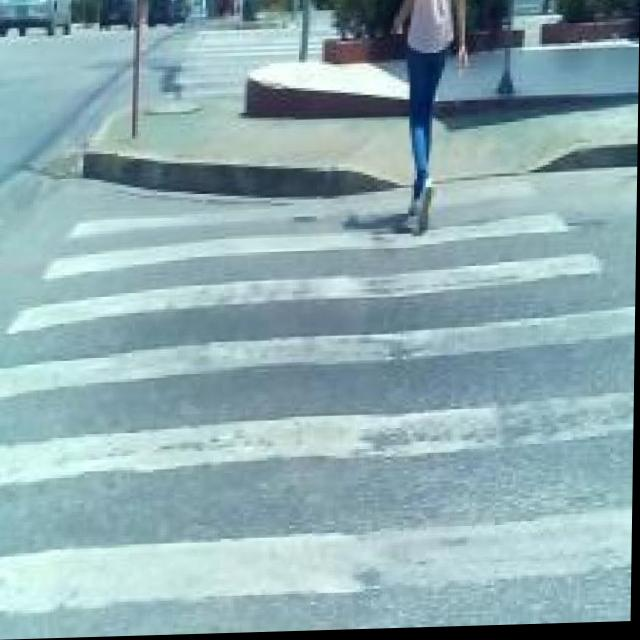zebra: (71, 190, 625, 638)
